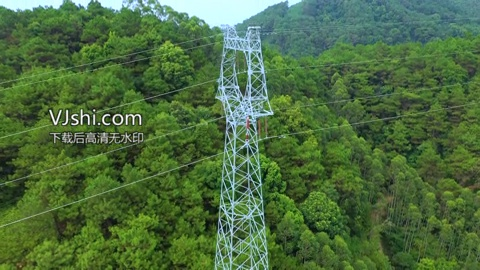tower_body: (203, 20, 289, 270)
tower_foot: (212, 214, 273, 269)
tower_head: (207, 23, 283, 120)
